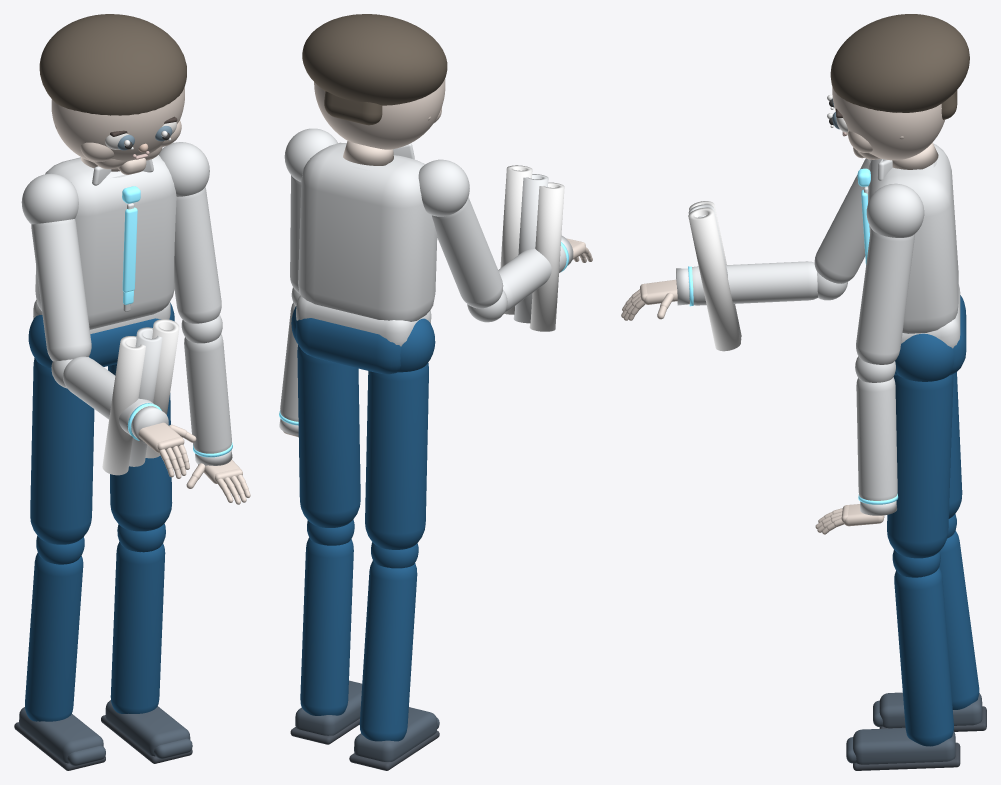
The model's file is lead-figure-stand-plans.glb.
3 renders of one model, left to right at view 1: azimuth 30°, elevation 25°; view 2: azimuth 150°, elevation 25°; view 3: azimuth 270°, elevation 25°, orthographic.
Parts seen in each view (by area): view 1: Shirt, Hair, UpperLeg_L, LowerLeg_R, LowerLeg_L, UpperArm_L, UpperArm_R, ForeArm_R, Head, UpperLeg_R, Blueprint_1, ForeArm_L (+20 smaller); view 2: Shirt, UpperLeg_L, Hair, UpperLeg_R, LowerLeg_L, LowerLeg_R, UpperArm_L, Pelvis, Head, Blueprint_1, Shoulder_L, ForeArm_L (+16 smaller); view 3: Hair, UpperLeg_R, LowerLeg_R, Shirt, UpperArm_R, ForeArm_R, LowerLeg_L, Head, ForeArm_L, Blueprint_3, UpperArm_L, Foot_R (+11 smaller).
Part boxes in pixels (left/top/right/bottom): Shirt: left=35, top=155, right=176, bottom=329; Hair: left=39, top=14, right=186, bottom=115; UpperLeg_L: left=30, top=358, right=94, bottom=544; LowerLeg_R: left=110, top=541, right=165, bottom=713; LowerLeg_L: left=25, top=552, right=83, bottom=721; UpperArm_L: left=31, top=219, right=91, bottom=361; UpperArm_R: left=174, top=187, right=221, bottom=323; ForeArm_R: left=184, top=334, right=231, bottom=453; Head: left=51, top=87, right=184, bottom=162; UpperLeg_R: left=108, top=364, right=172, bottom=531; Blueprint_1: left=102, top=336, right=145, bottom=475; ForeArm_L: left=63, top=356, right=154, bottom=435; Shirt: left=298, top=142, right=437, bottom=321; UpperLeg_L: left=365, top=363, right=428, bottom=549; Hair: left=302, top=14, right=447, bottom=105; UpperLeg_R: left=297, top=345, right=360, bottom=527; LowerLeg_L: left=359, top=560, right=417, bottom=741; LowerLeg_R: left=300, top=537, right=353, bottom=715; UpperArm_L: left=432, top=197, right=503, bottom=308; Pelvis: left=295, top=318, right=400, bottom=374; Head: left=314, top=79, right=445, bottom=149; Blueprint_1: left=529, top=182, right=564, bottom=331; Shoulder_L: left=418, top=159, right=469, bottom=216; ForeArm_L: left=498, top=246, right=566, bottom=312; Hair: left=830, top=14, right=969, bottom=112; UpperLeg_R: left=887, top=374, right=953, bottom=558; LowerLeg_R: left=894, top=567, right=953, bottom=746; Shirt: left=868, top=143, right=958, bottom=333; UpperArm_R: left=856, top=228, right=914, bottom=364; ForeArm_R: left=856, top=377, right=897, bottom=500; LowerLeg_L: left=939, top=530, right=979, bottom=709; Head: left=832, top=87, right=944, bottom=160; ForeArm_L: left=688, top=261, right=817, bottom=305; Blueprint_3: left=688, top=208, right=740, bottom=351; UpperArm_L: left=814, top=158, right=869, bottom=283; Foot_R: left=853, top=728, right=955, bottom=764.
Size of the model in its own units: 0.4959 by 1.7 by 0.7844.
